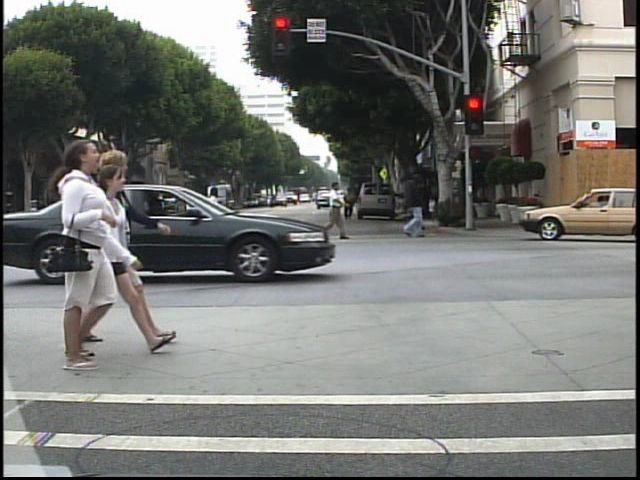person: (34, 142, 130, 377), (95, 162, 166, 366), (99, 146, 162, 350), (396, 167, 436, 240), (321, 176, 349, 241), (149, 188, 173, 250), (199, 183, 224, 241), (76, 190, 101, 246), (70, 184, 89, 247), (342, 186, 358, 222)
